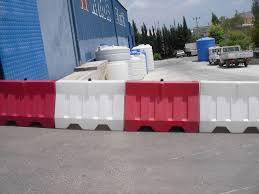barrier: (124, 76, 201, 132), (52, 78, 128, 132), (198, 80, 258, 135), (1, 79, 56, 130)
